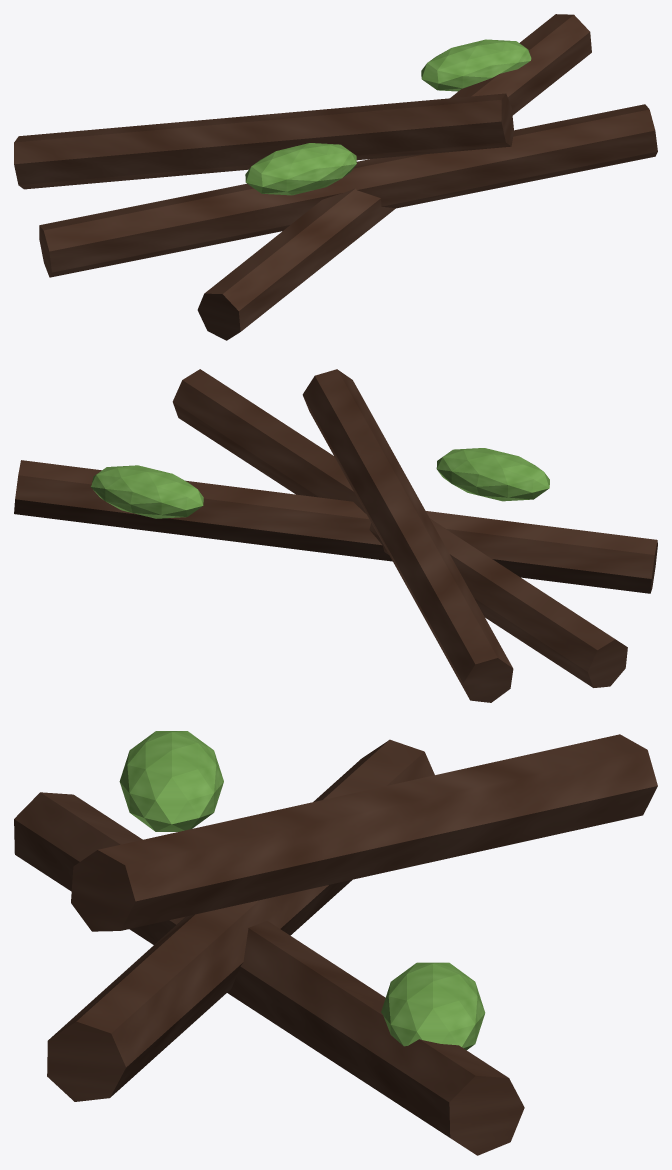
The model's file is takjes.glb.
3 views of the same model, one above another, from view 1: azimuth 30°, elevation 25°; view 2: azimuth 150°, elevation 25°; view 3: azimuth 270°, elevation 25° (orthographic). The views are drawn at different scales.
Parts seen in each view (by area): view 1: world; view 2: world; view 3: world.
Boxes of the visible parts, bbox=[...] form: world: bbox=[14, 14, 657, 340]; world: bbox=[14, 369, 657, 702]; world: bbox=[14, 731, 657, 1155].
Size of the model in its own units: 0.6 by 0.1578 by 0.3698.
Materials: 1 (1 with a texture image).
